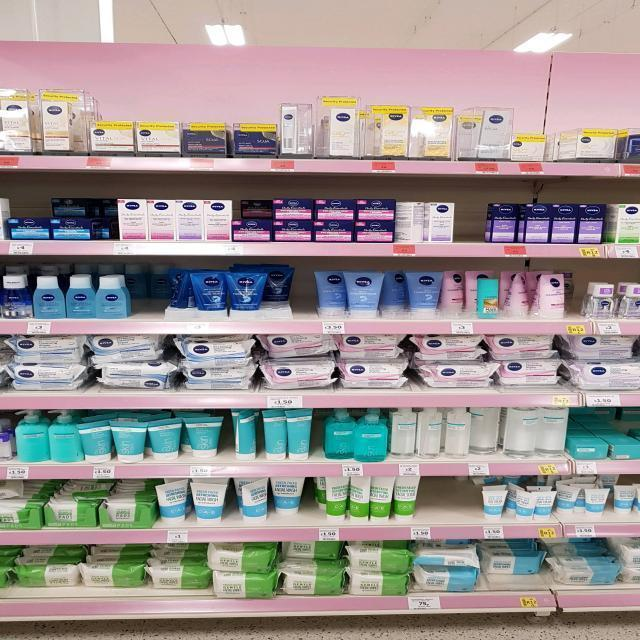Imprecise: (484, 547, 548, 590), (51, 198, 118, 238), (128, 262, 171, 320), (230, 198, 274, 242), (269, 477, 303, 527), (262, 268, 294, 314), (474, 276, 500, 320)
